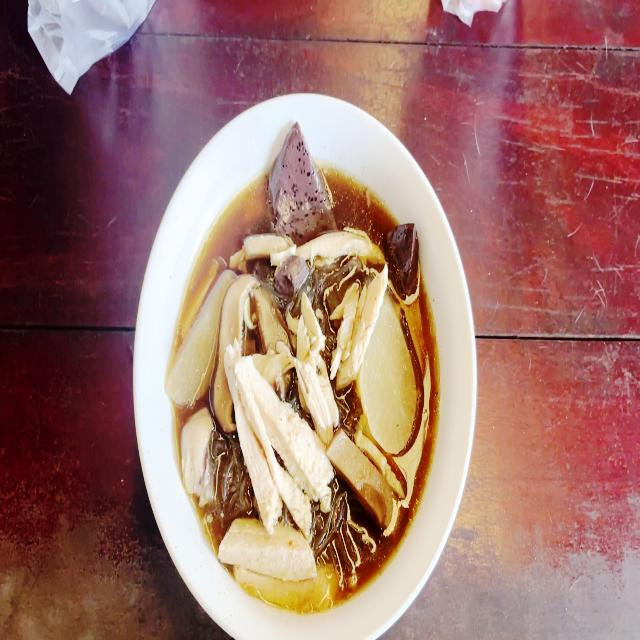boiled_chicken_blood_jelly: (274, 128, 330, 224), (387, 219, 423, 292), (269, 256, 303, 299)
chicken_shredded: (229, 349, 326, 524), (214, 511, 340, 620), (339, 274, 386, 379), (298, 304, 333, 429), (294, 226, 376, 262), (178, 416, 212, 493), (242, 228, 287, 262)
daikon_radish: (168, 272, 222, 398), (367, 331, 414, 445)
noodle: (177, 170, 440, 608)
